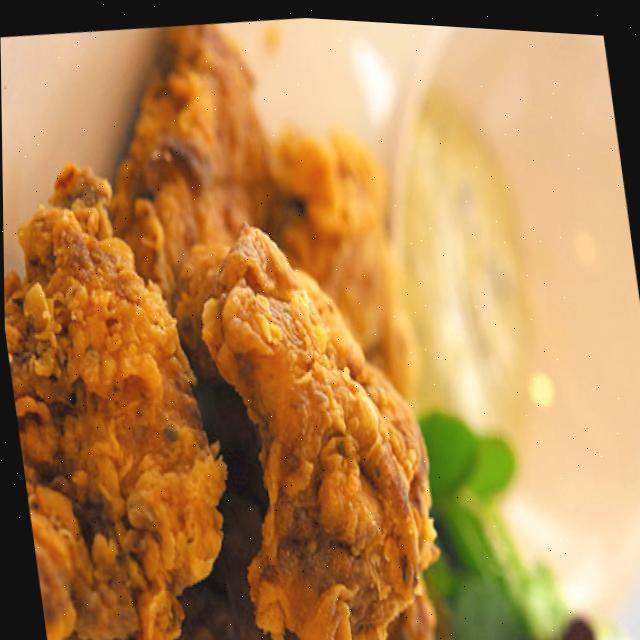鸡肉料理 含炸鸡: (0, 0, 505, 640)
